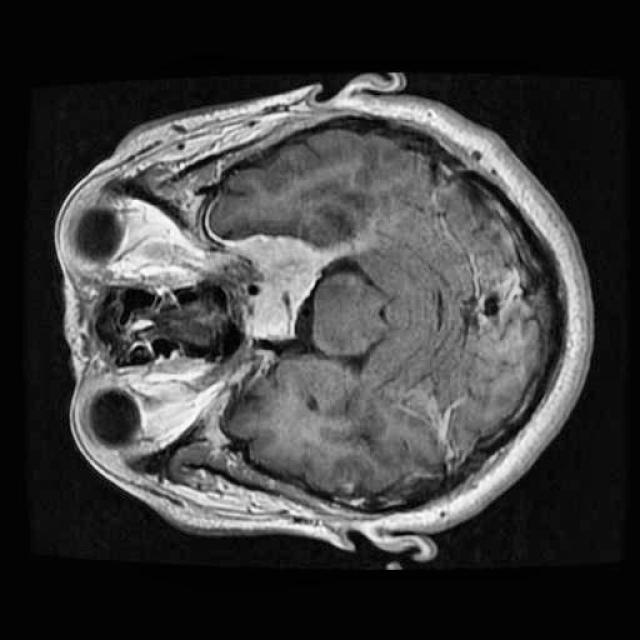Tumor: (210, 221, 384, 354)
